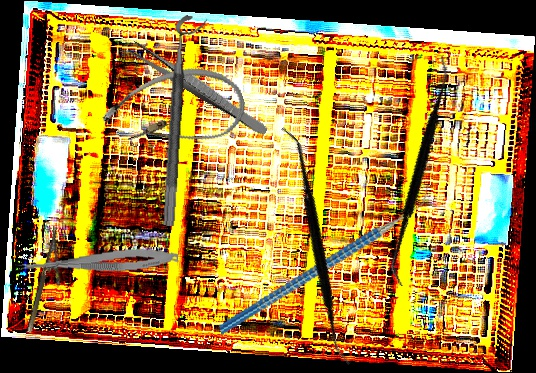Cannula: (95, 53, 253, 171)
Chopper: (198, 181, 451, 337)
Dressing Forceps: (125, 38, 272, 138)
Fixation Ring: (161, 14, 208, 228)
Micro Scissor: (14, 244, 179, 282)
Needle Holder: (25, 226, 74, 337)
Spatula Surgical: (197, 126, 435, 366), (332, 53, 511, 288)
